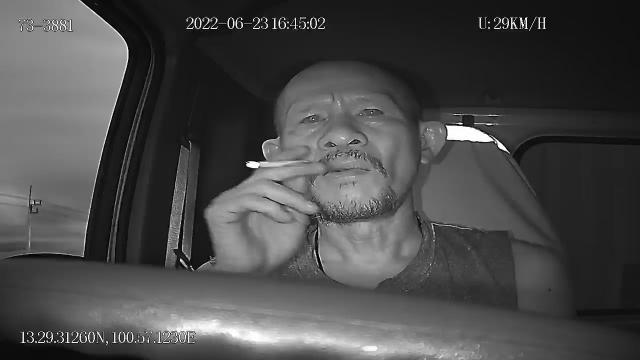SafeDriving: (349, 97, 394, 125), (292, 101, 332, 130)
Smoking: (245, 158, 312, 170)
